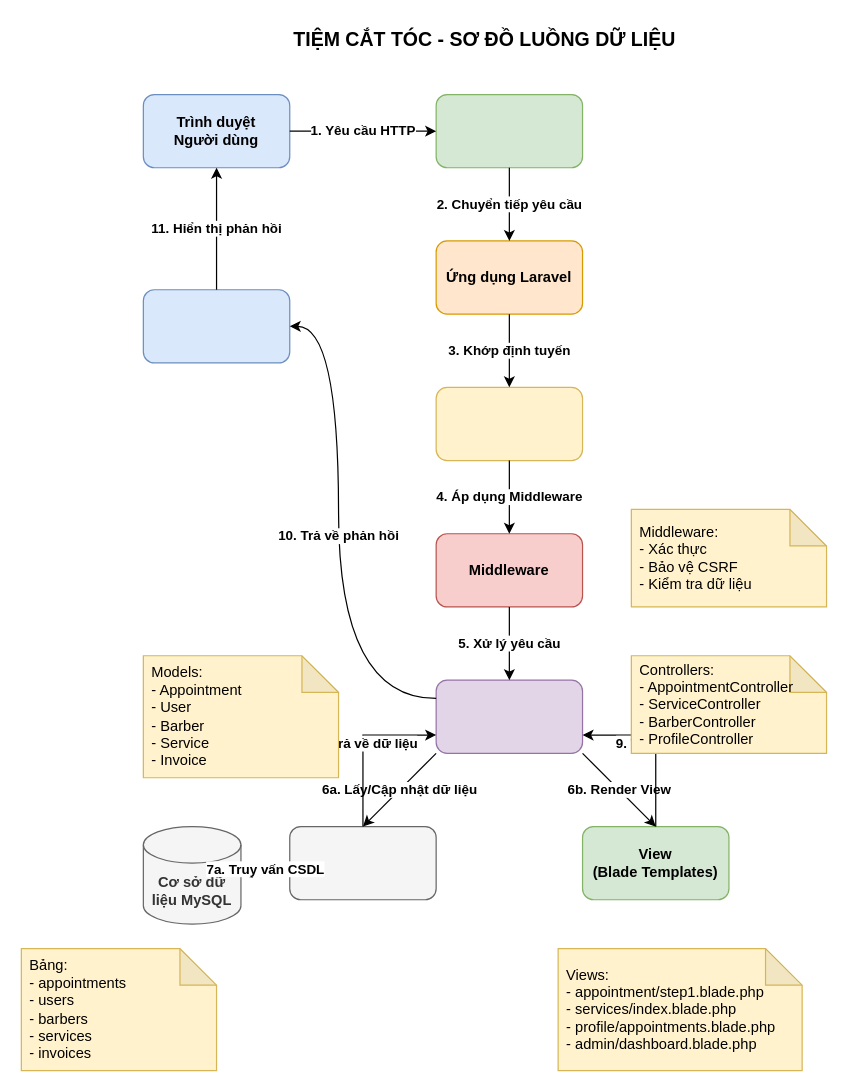
The diagram is 848 pixels wide and 1092 high, and some of its shapes have lost their labels. The shapes that lost their labels are listed below. From the top down, each one's centre as x and y in pixels, then its label:
At pixel 509 130: "Web Server (Apache/Nginx)".
At pixel 216 326: "Phản hồi HTTP".
At pixel 509 423: "Router".
At pixel 509 716: "Controller".
At pixel 362 862: "Model".
